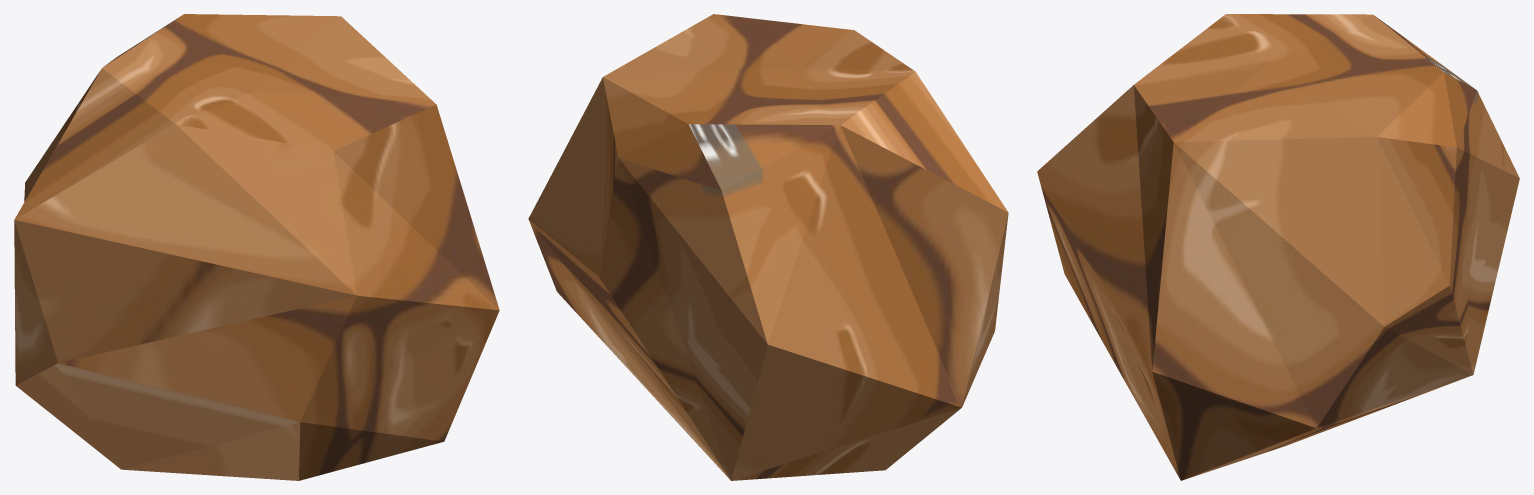
File: jari.gltf
3 views of the same model, side by side, from view 1: azimuth 30°, elevation 25°; view 2: azimuth 150°, elevation 25°; view 3: azimuth 270°, elevation 25° (orthographic). The views are drawn at different scales.
Visible parts, largest first — view 1: 立方体.001; view 2: 立方体.001; view 3: 立方体.001.
Boxes of the visible parts, <box> form: 立方体.001: <box>14,14,499,480</box>; 立方体.001: <box>528,14,1008,480</box>; 立方体.001: <box>1037,14,1519,480</box>.
Bounding box in the file's own units: 17.09 × 14.26 × 16.36.
